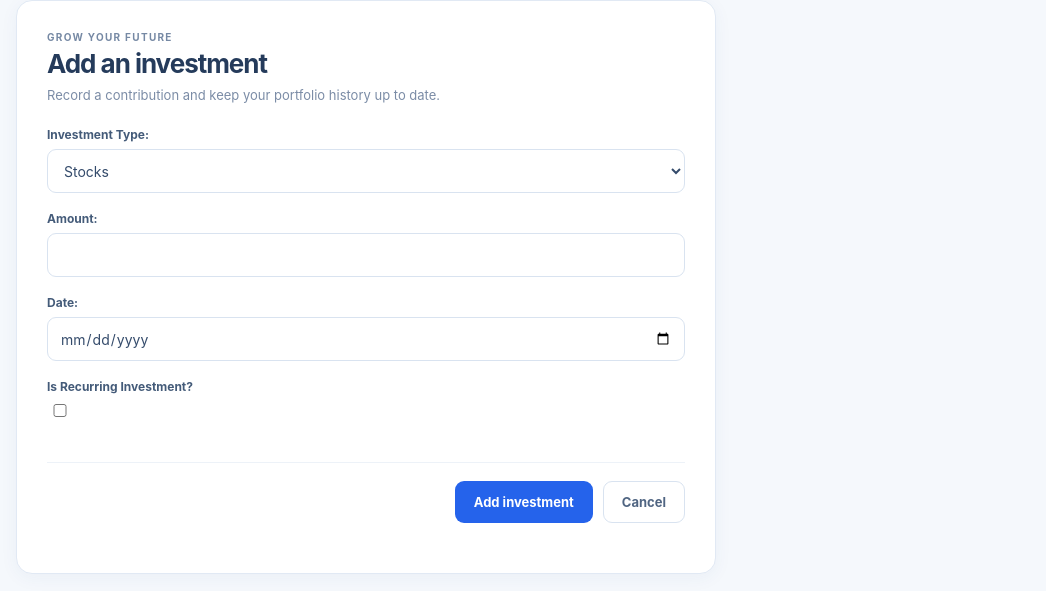
InvestmentForm › shows a notification when the request fails
Select "Bonds" in the dropdown labelled "Investment Type:" at (366, 171), box [47,149,685,193]
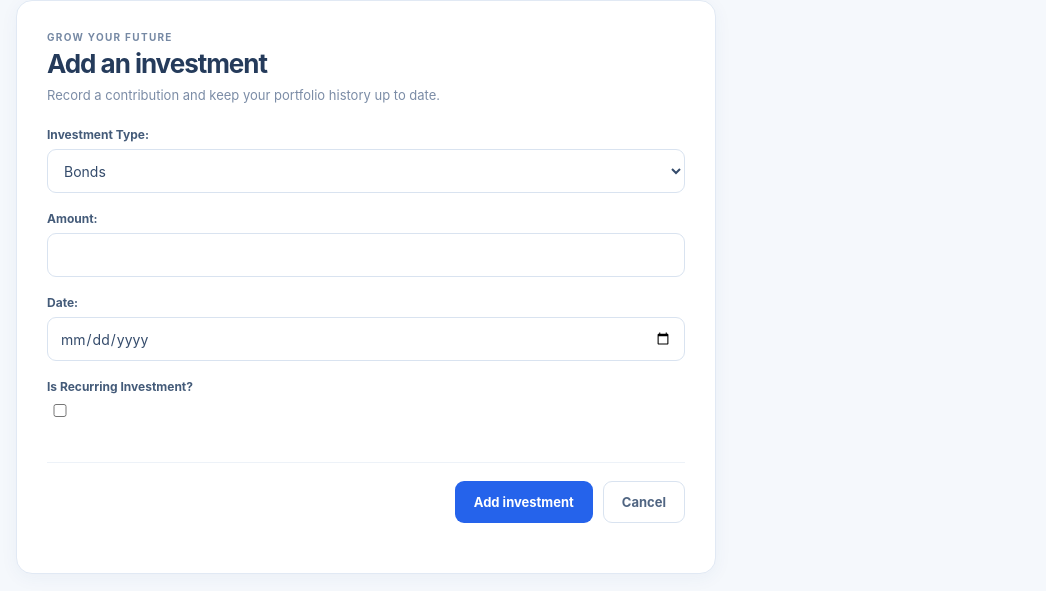
Type "300" into the number field labelled "Amount:" at (366, 255), box [47,233,685,277]
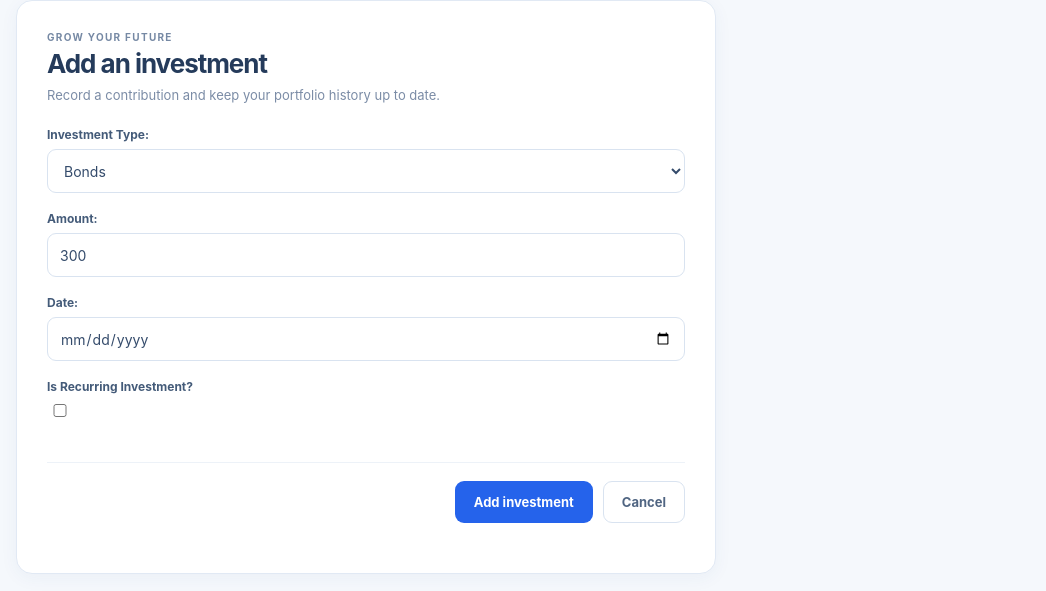
Type "2026-02-01" into the date field labelled "Date:" at (366, 339), box [47,317,685,361]
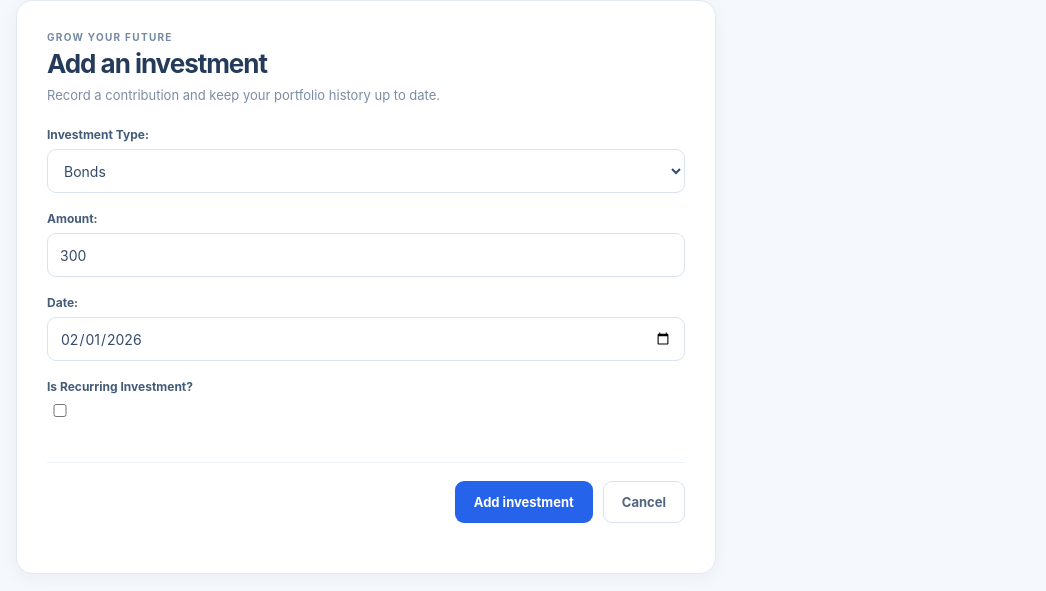
Click the button "Add investment" at (524, 502), box [455,481,593,523]
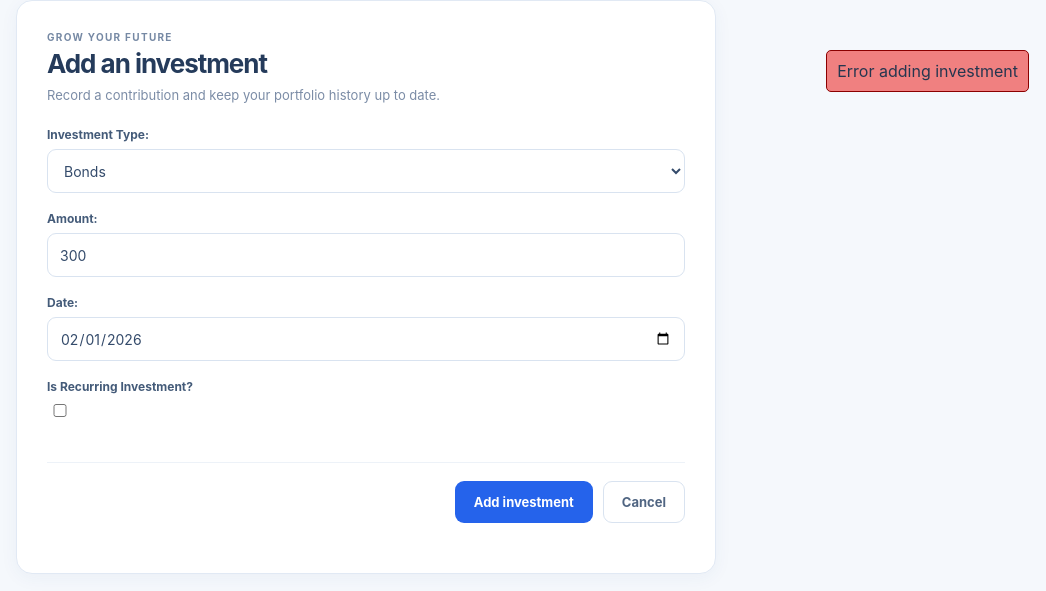
Check: the text "Error adding investment" is shown, box [826,50,1029,92]
